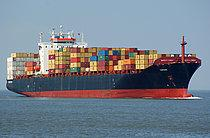Ship: (7, 23, 206, 102)
